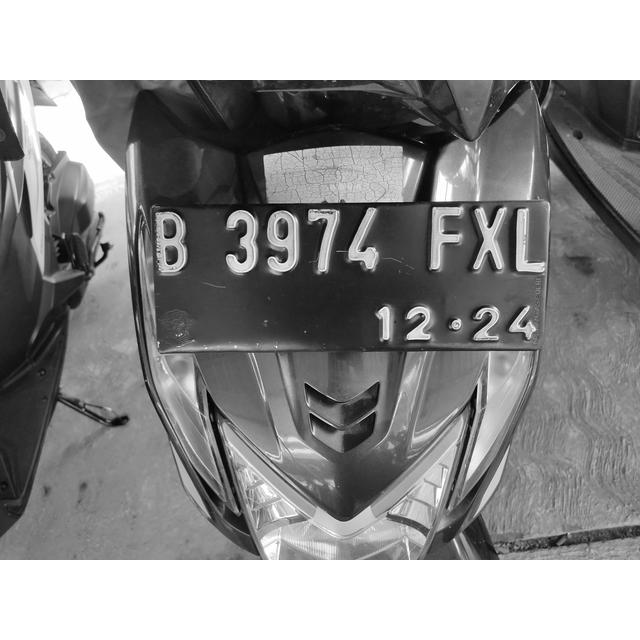license: (153, 202, 540, 348)
